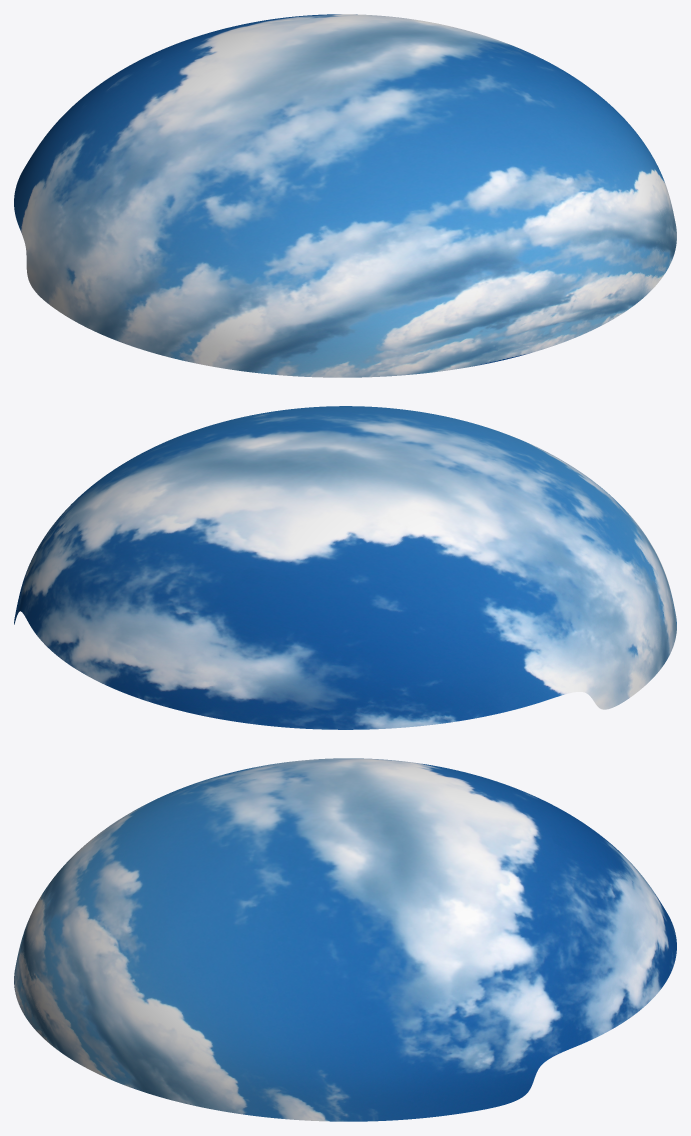
The model's file is skydome.fbx.
3 views of the same model, one above another, from view 1: azimuth 30°, elevation 25°; view 2: azimuth 150°, elevation 25°; view 3: azimuth 270°, elevation 25° (orthographic).
Visible parts, largest first — view 1: Sphere; view 2: Sphere; view 3: Sphere.
Part boxes in pixels (box(x1,y1,x2,y2)): Sphere: box(14, 14, 676, 377); Sphere: box(14, 406, 676, 729); Sphere: box(14, 758, 676, 1121).
Size of the model in its own units: 31.09 by 8.85 by 30.79.
1 material, 1 textured.
